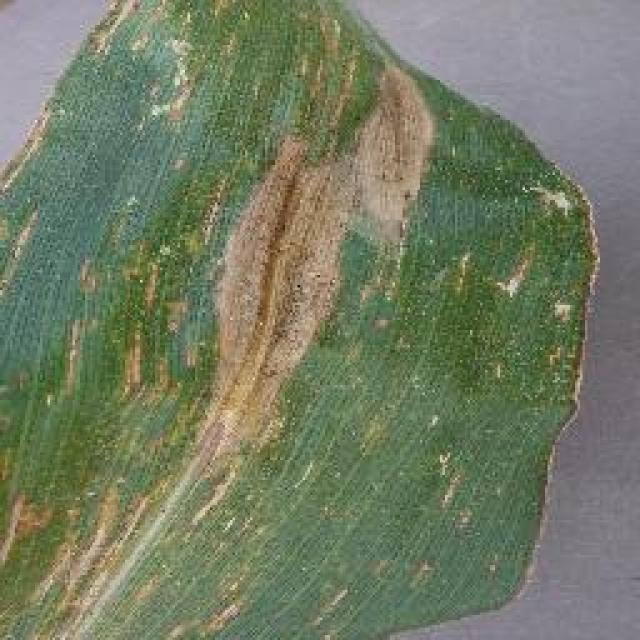Corn___Cercospora_leaf_spot Gray_leaf_spot: (3, 0, 615, 640)
